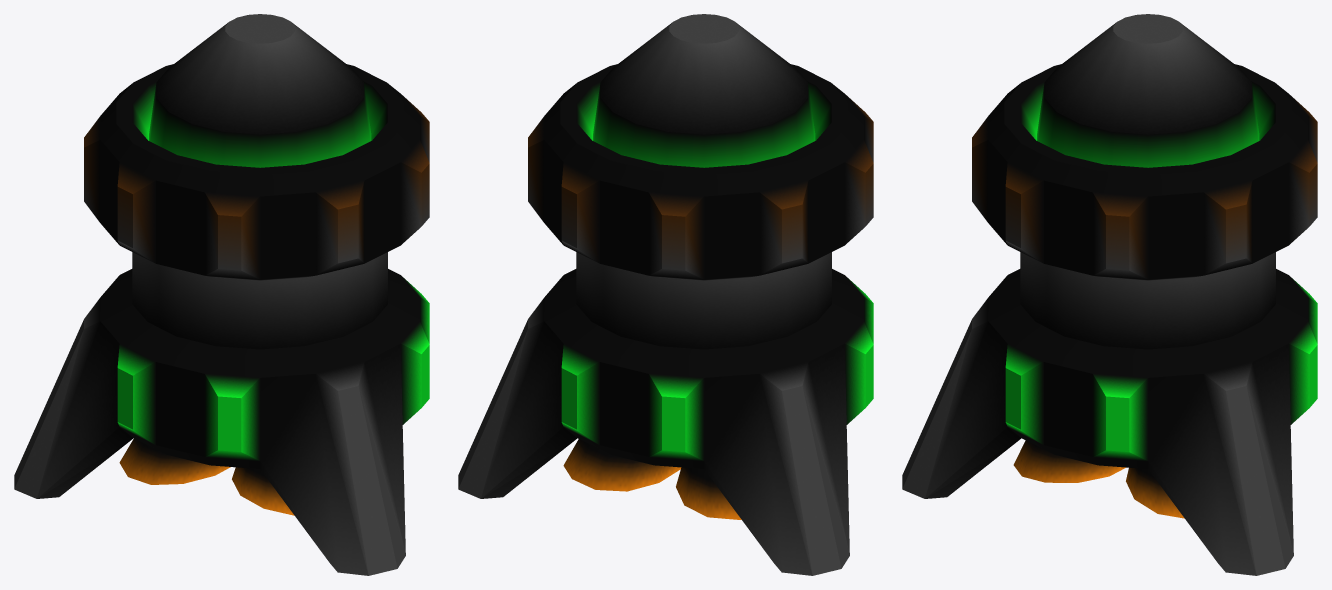
File: rocket.fbx
The picture shows the model from 3 angles, left to right: view 1: azimuth 30°, elevation 25°; view 2: azimuth 150°, elevation 25°; view 3: azimuth 270°, elevation 25°; orthographic projection.
Parts seen in each view (by area): view 1: Rocket; view 2: Rocket; view 3: Rocket.
Part boxes in pixels (x1,y1,x2,y2): Rocket: [14, 14, 429, 575]; Rocket: [458, 14, 873, 575]; Rocket: [902, 14, 1317, 575].
Size of the model in its own units: 354 by 332 by 400.
Materials: 1 (1 with a texture image).
